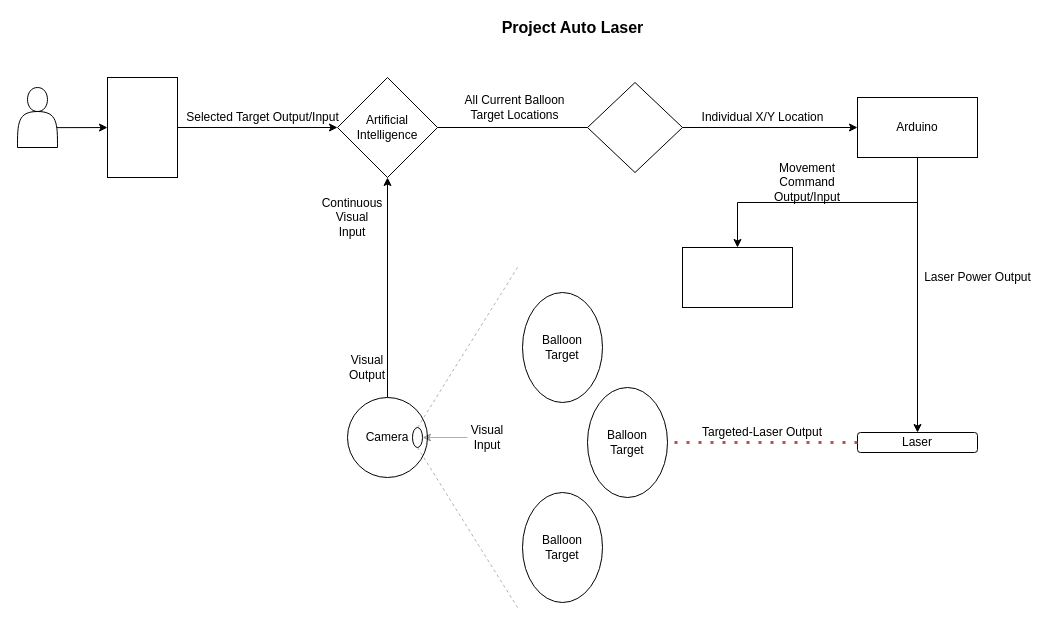
The diagram is 1055 pixels wide and 626 high, and some of its shapes have lost their labels. Here are the shapes that lost their labels. From the top down, the centre of each, then its label:
the point at 142,127: Target Selection Interface GUI
the point at 634,127: Selector Script
the point at 737,277: Laser Holder
